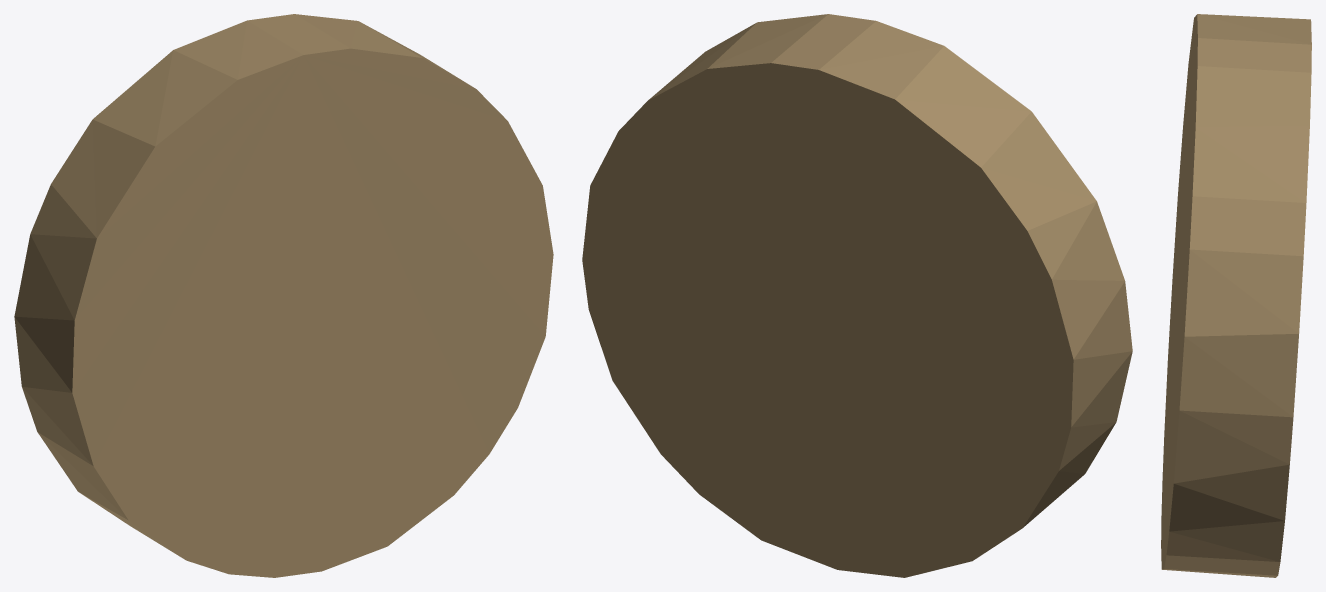
The model's file is left_elbow_x_link_visual_11.obj.balanced.glb.
3 renders of one model, left to right at view 1: azimuth 30°, elevation 25°; view 2: azimuth 150°, elevation 25°; view 3: azimuth 270°, elevation 25°, orthographic. The views are drawn at different scales.
Size of the model in its own units: 0.1668 by 0.1686 by 0.0448.
